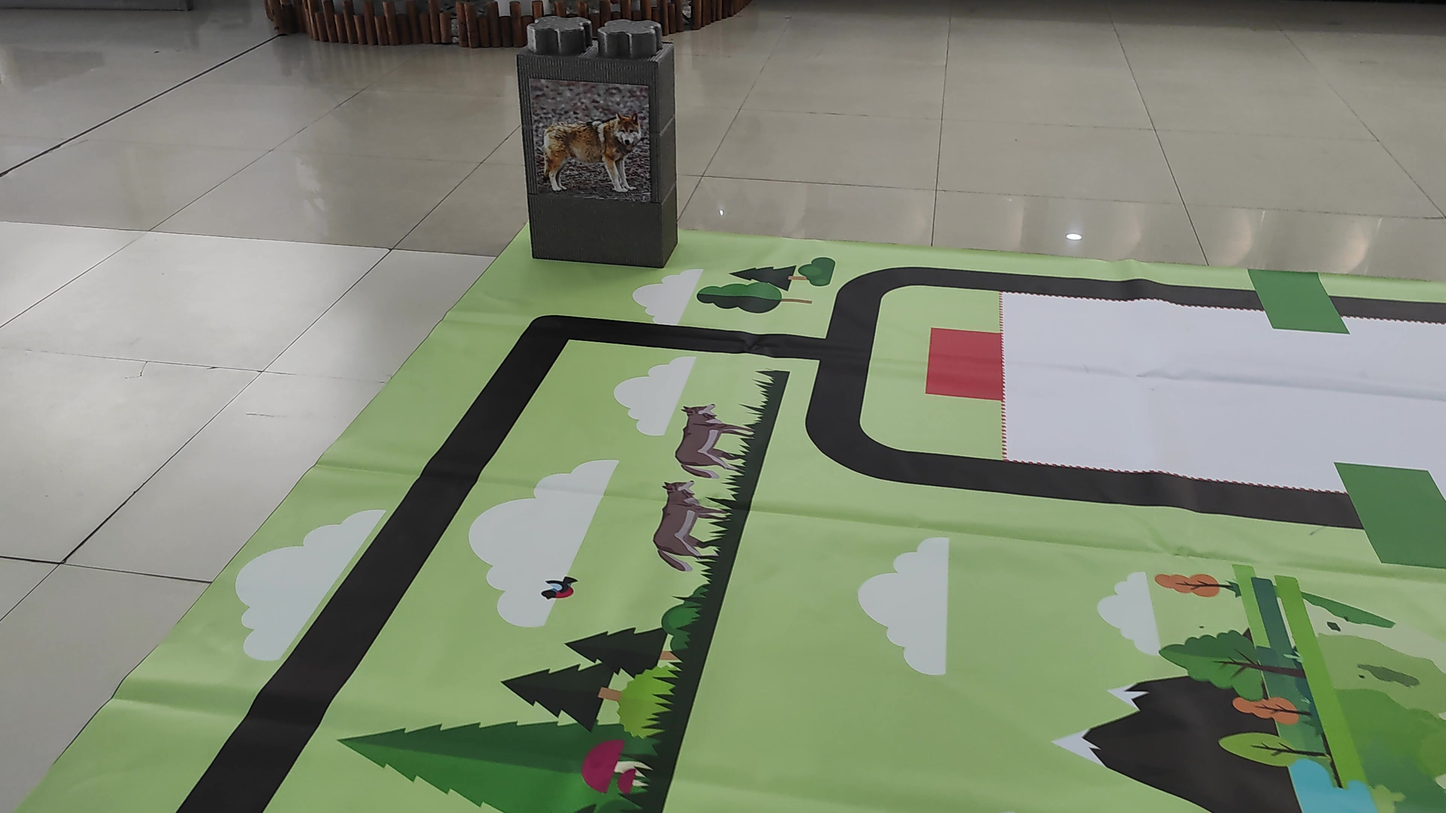wolf: (534, 98, 651, 221)
